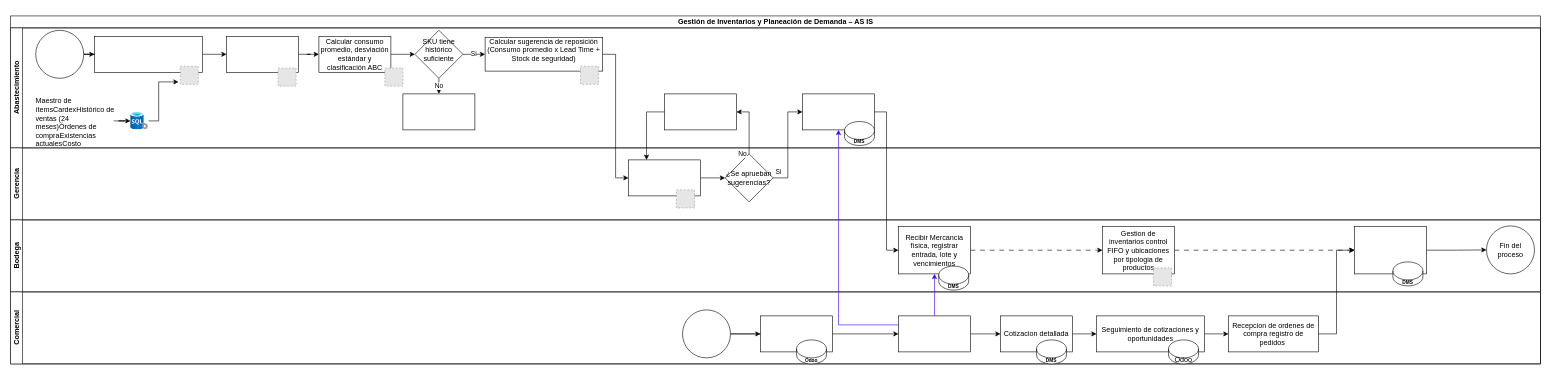
The diagram is 1551 pixels wide and 374 high, and some of its shapes have lost their labels. Grey dashed boxes stand in for pictures. The box of each missing label's shape, as (x1, y1, x2, y2) in pixels:
Consulta de inventario y proximos arrivos: (898, 315, 970, 352)
Entrega de pedidos: (1354, 226, 1426, 274)
Extraer datos históricos desde ERP (DMS) mediante consultas SQL y Power Query: (94, 36, 202, 72)
Indentificacion de oportunidad: (760, 315, 832, 352)
Inicio de proceso: (35, 30, 84, 78)
Necesidades Comerciales: (682, 309, 730, 358)
Normalizar y consolidar información en Excel: (226, 36, 298, 72)
Presentar sugerencias en comité: (628, 159, 700, 196)
Se crean Ordenes de compra: (802, 93, 874, 130)
Se hacen ajustes manuales: (664, 93, 736, 130)
SKU sin sugerencia automática: (402, 93, 475, 130)
